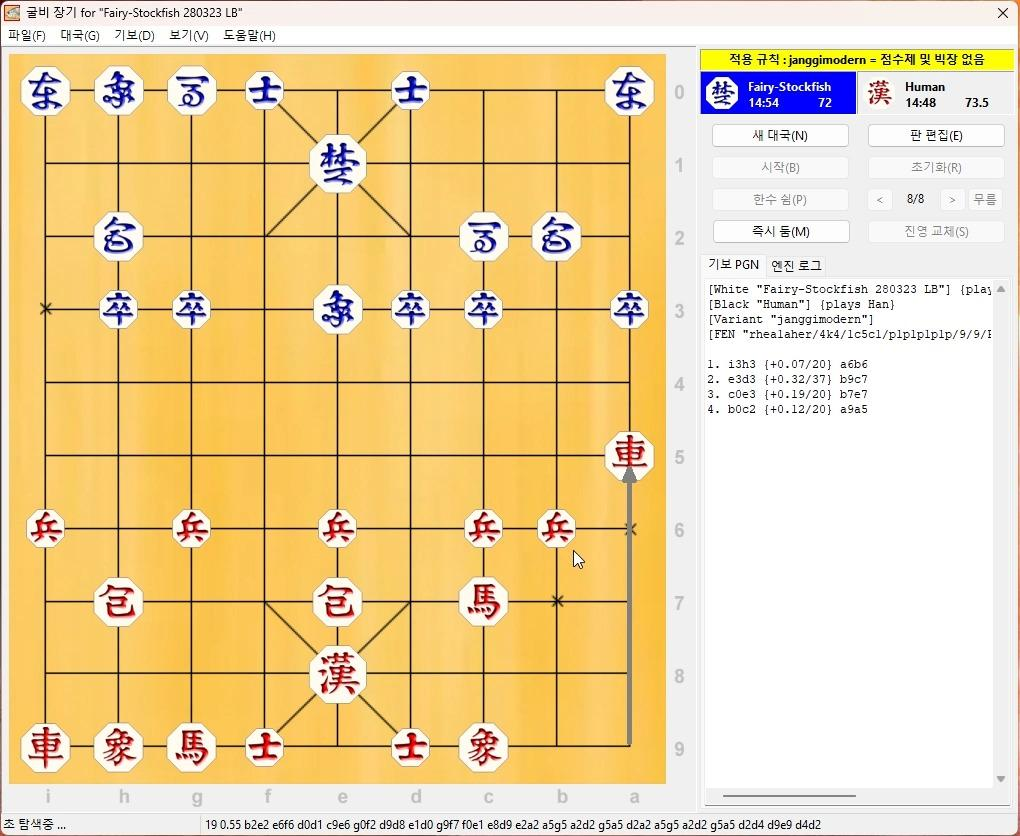cha_green: (603, 68, 653, 115), (23, 70, 73, 115)
cha_red: (20, 724, 69, 770), (602, 433, 653, 476)
jol_green: (466, 293, 505, 329), (171, 292, 210, 328), (610, 291, 649, 326), (391, 294, 430, 329), (98, 293, 136, 328)
jol_red: (315, 509, 358, 550), (536, 512, 578, 547), (24, 512, 65, 547), (172, 510, 212, 545), (464, 511, 503, 545)
ma_green: (461, 214, 509, 260), (166, 69, 216, 113)
ma_red: (167, 725, 218, 771), (458, 576, 506, 621)
po_green: (533, 213, 583, 259), (93, 214, 142, 259)
po_red: (315, 577, 364, 623), (95, 577, 144, 621)
sa_green: (243, 74, 284, 109), (391, 74, 432, 108)
sa_red: (389, 729, 431, 763), (246, 730, 287, 763)
sang_green: (315, 286, 363, 334), (96, 68, 145, 115)
sang_red: (459, 723, 508, 773), (93, 724, 144, 771)
wang_green: (310, 136, 367, 188)
wang_red: (310, 647, 369, 699)
